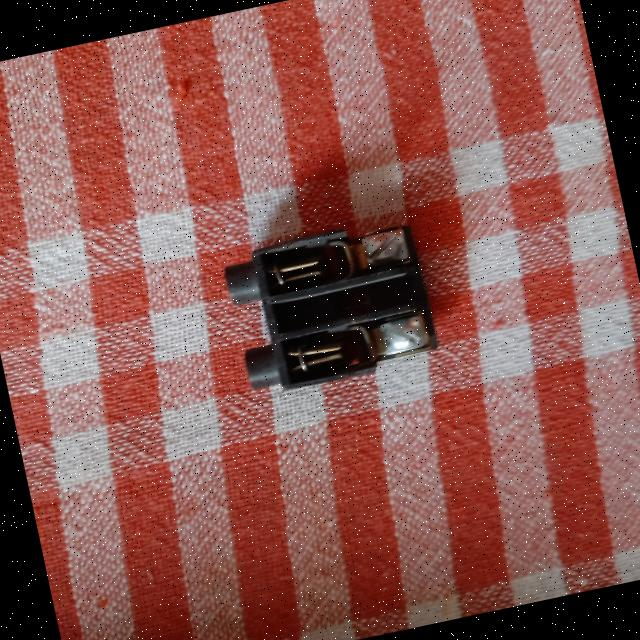Slotted: (360, 228, 408, 265), (380, 317, 427, 353)
